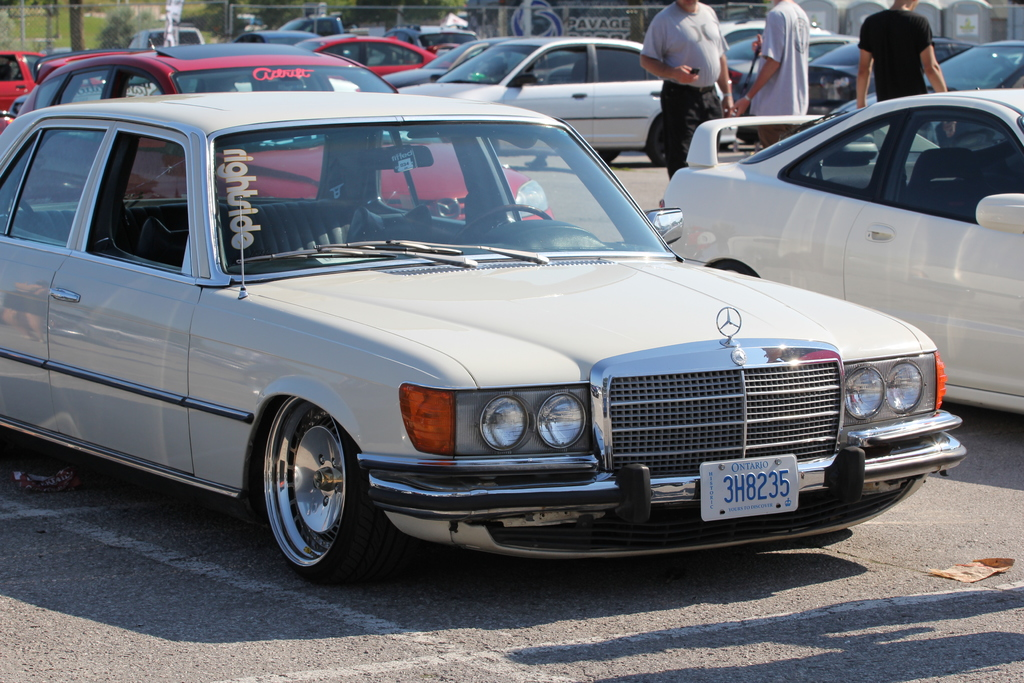Person: (639, 0, 737, 181), (730, 0, 810, 148), (855, 0, 948, 109)
